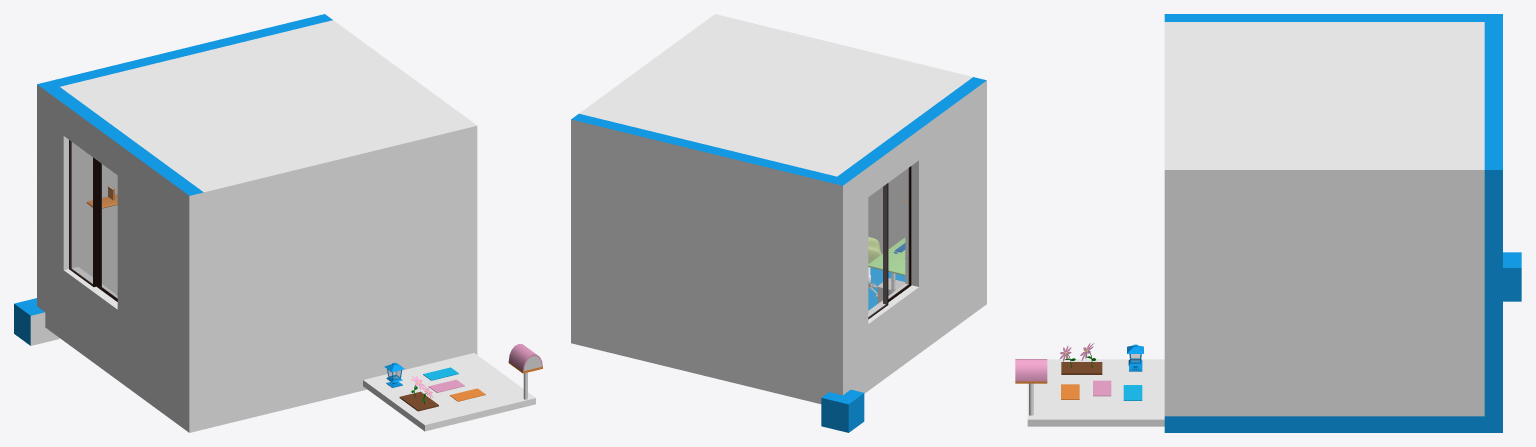
Rendered from 网页小屋.glb.
The picture shows the model from 3 angles, left to right: view 1: azimuth 30°, elevation 25°; view 2: azimuth 150°, elevation 25°; view 3: azimuth 270°, elevation 25°; orthographic projection. The views are drawn at different scales.
Parts seen in each view (by area): view 1: 遮挡墙体, 墙体, 迷你地板, 遮挡立方体, 邮箱; view 2: 墙体, 遮挡墙体, 遮挡立方体, 桌子; view 3: 遮挡墙体, 墙体, 迷你地板, 邮箱, 遮挡立方体, 土地.
Boxes of the visible parts, x1,y1,x2,y2 form: 遮挡墙体: (60,20,477,414); 墙体: (37,14,477,432); 迷你地板: (363,353,535,431); 遮挡立方体: (14,298,59,345); 邮箱: (508,344,542,399); 墙体: (571,77,986,403); 遮挡墙体: (579,14,972,253); 遮挡立方体: (821,389,864,432); 桌子: (868,237,905,293); 遮挡墙体: (1164,22,1484,416); 墙体: (1164,14,1502,432); 迷你地板: (1027,359,1164,426); 邮箱: (1015,359,1047,415); 遮挡立方体: (1503,252,1521,301); 土地: (1061,362,1102,374).
Bounding box in the file's own units: 20.93 × 16.68 × 27.35.
